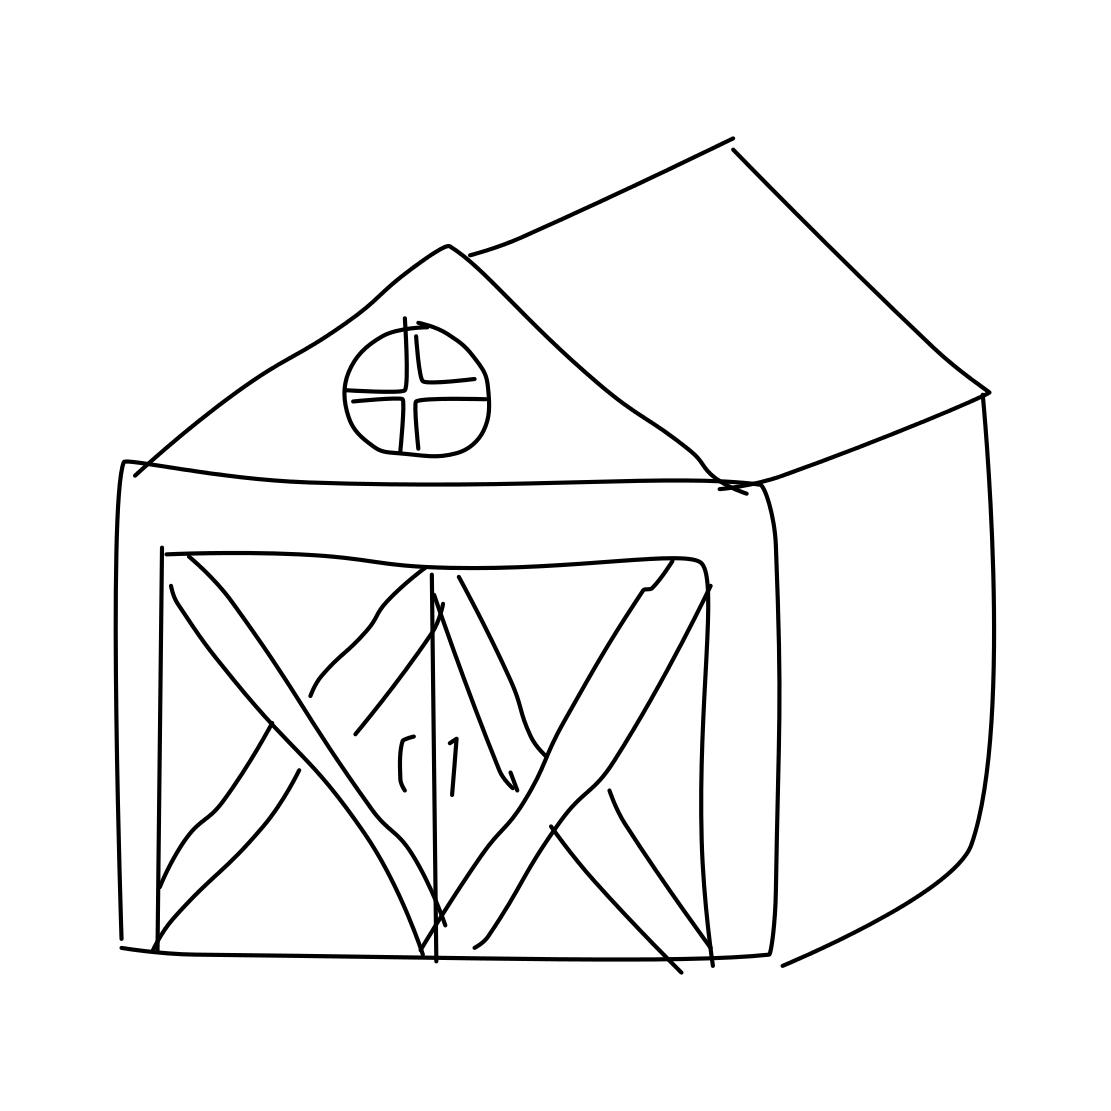House: (90, 135, 1024, 976)
